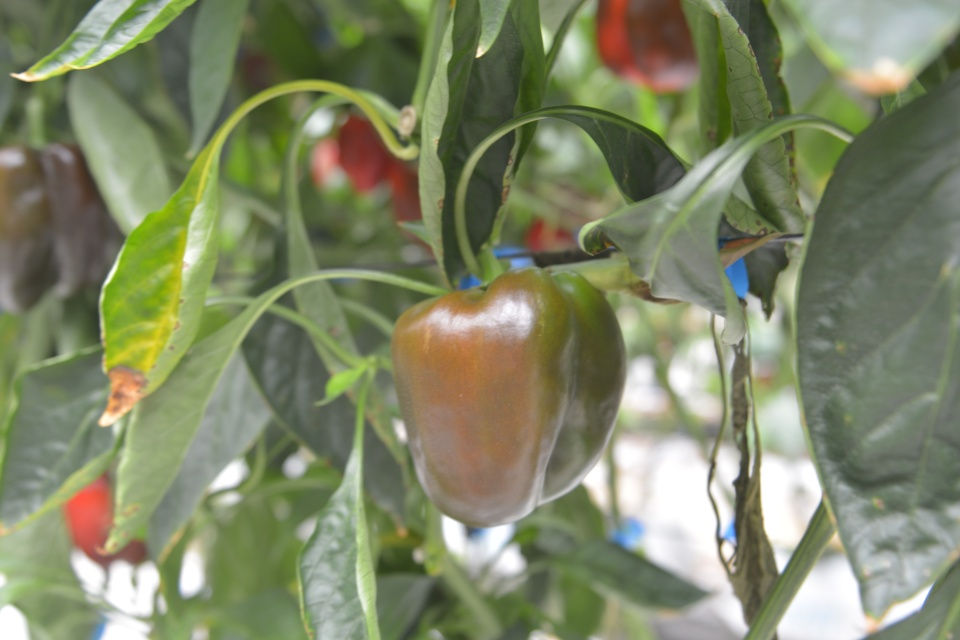fruit: (390, 263, 628, 531), (0, 139, 124, 316), (311, 113, 422, 223), (594, 1, 706, 97), (64, 472, 148, 569)
